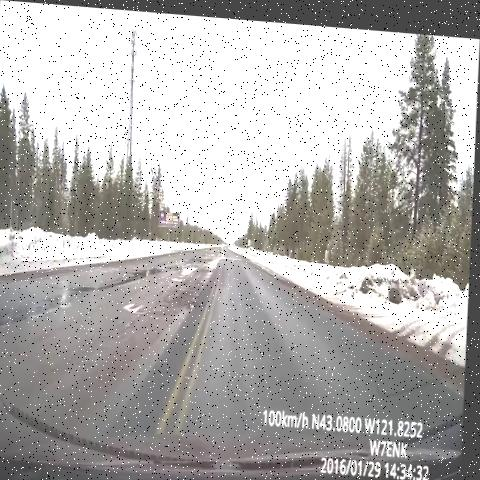pothole: (114, 302, 152, 351), (171, 274, 213, 314)
